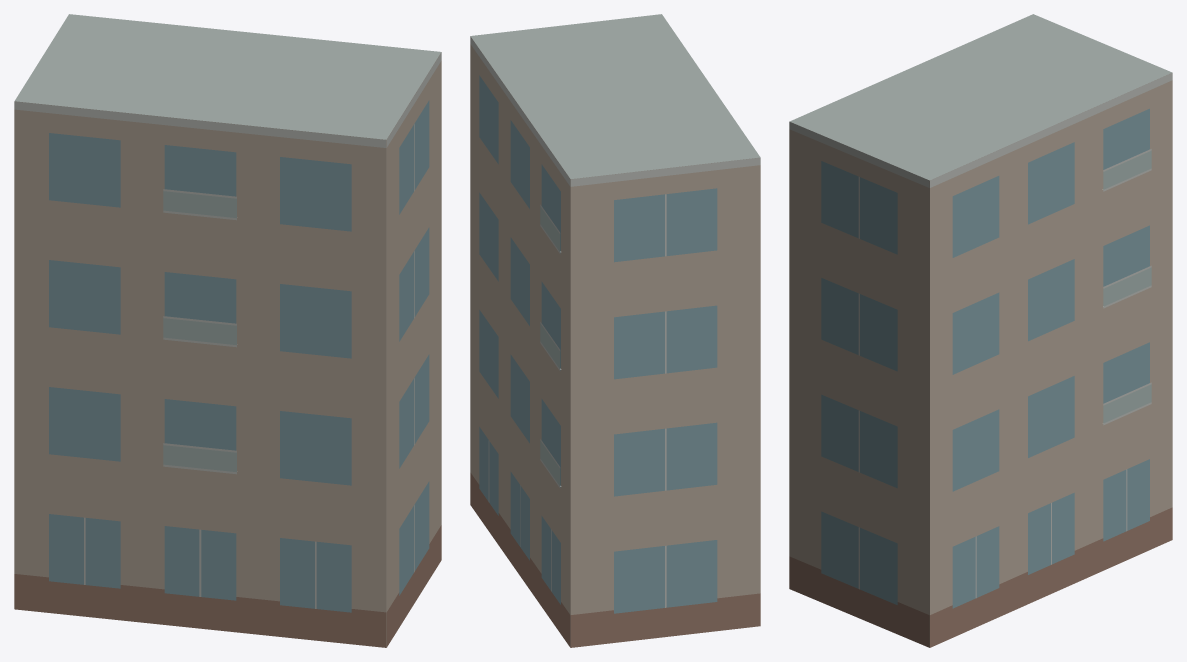
Rendered from survey-upis-32914466.glb.
3 renders of one model, left to right at view 1: azimuth 30°, elevation 25°; view 2: azimuth 150°, elevation 25°; view 3: azimuth 270°, elevation 25°, orthographic. The views are drawn at different scales.
Parts seen in each view (by area): view 1: survey-upis-32914466.tmp; view 2: survey-upis-32914466.tmp; view 3: survey-upis-32914466.tmp.
Part boxes in pixels (bbox=[...]): survey-upis-32914466.tmp: bbox=[14, 14, 441, 647]; survey-upis-32914466.tmp: bbox=[470, 14, 760, 647]; survey-upis-32914466.tmp: bbox=[789, 14, 1172, 647].
Bounding box in the file's own units: 11.39 × 14.9 × 11.08.
